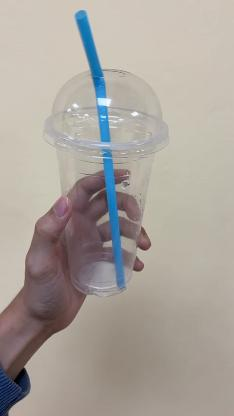Plastic Cup: (44, 68, 174, 300)
